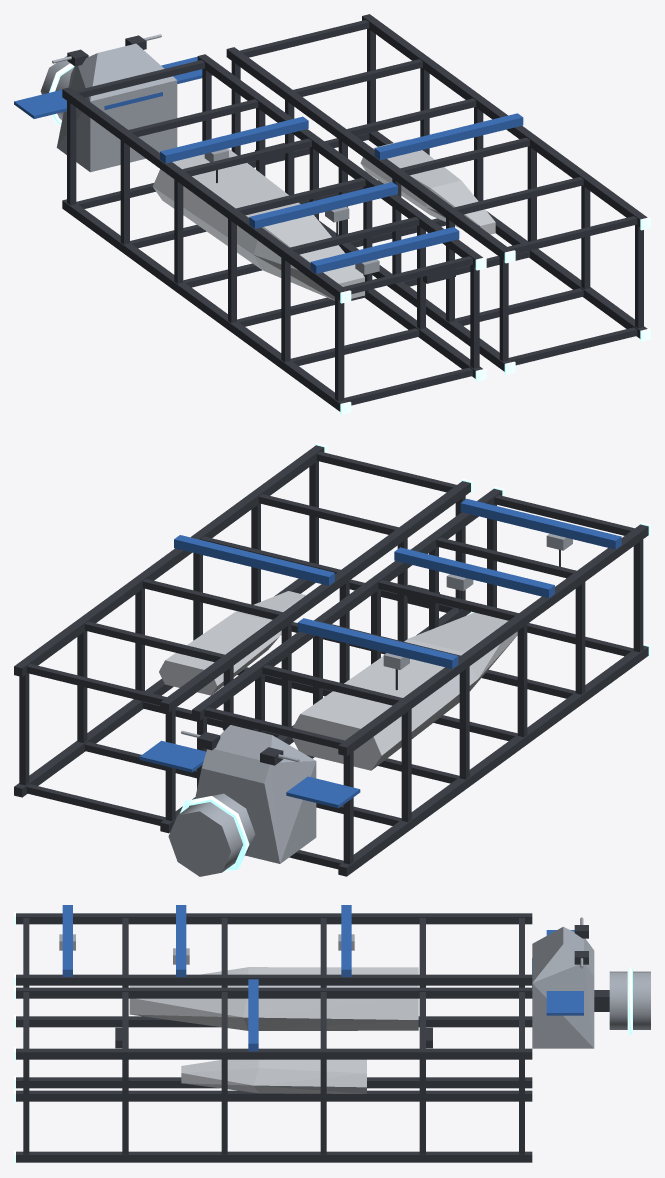
File: Shipyard_L4.glb
The picture shows the model from 3 angles, top to bottom: view 1: azimuth 30°, elevation 25°; view 2: azimuth 150°, elevation 25°; view 3: azimuth 270°, elevation 25°; orthographic projection. The views are drawn at different scales.
Visible parts, largest first — view 1: hull_in_progress, control_block, frame_beam_R1, frame_beam_1, frame_beam_3, frame_beam_R0, frame_beam_0, hull_in_progress_R, frame_beam_R2, gantry_2, gantry_R, gantry_0 (+43 smaller); view 2: hull_in_progress, control_block, frame_beam_R1, frame_beam_1, frame_beam_3, frame_beam_R0, fusion_reactor, frame_beam_0, hull_in_progress_R, frame_beam_R2, gantry_2, gantry_0 (+41 smaller); view 3: hull_in_progress, frame_beam_R0, control_block, frame_beam_0, frame_beam_R2, frame_beam_R1, frame_beam_1, hull_in_progress_R, frame_beam_R3, frame_beam_2, frame_beam_3, fusion_reactor (+22 smaller).
Boxes of the visible parts, x1,y1,x2,y2 form: hull_in_progress: [152, 148, 364, 300]; control_block: [56, 43, 177, 172]; frame_beam_R1: [226, 47, 511, 260]; frame_beam_1: [62, 87, 347, 300]; frame_beam_3: [62, 199, 347, 411]; frame_beam_R0: [362, 14, 647, 227]; frame_beam_0: [197, 54, 482, 267]; hull_in_progress_R: [360, 139, 495, 234]; frame_beam_R2: [369, 131, 647, 338]; gantry_2: [310, 227, 459, 273]; gantry_R: [374, 113, 523, 160]; gantry_0: [160, 116, 308, 163]; hull_in_progress: [292, 612, 517, 770]; control_block: [195, 725, 316, 863]; frame_beam_R1: [160, 481, 470, 712]; frame_beam_1: [338, 524, 648, 756]; frame_beam_3: [338, 645, 648, 876]; frame_beam_R0: [14, 445, 324, 676]; fusion_reactor: [168, 793, 255, 876]; frame_beam_0: [192, 488, 502, 720]; hull_in_progress_R: [159, 591, 305, 695]; frame_beam_R2: [14, 578, 315, 797]; gantry_2: [460, 499, 621, 549]; gantry_0: [297, 618, 458, 668]; hull_in_progress: [129, 967, 418, 1030]; frame_beam_R0: [16, 1048, 532, 1059]; control_block: [532, 926, 594, 1048]; frame_beam_0: [16, 974, 532, 985]; frame_beam_R2: [16, 1151, 532, 1162]; frame_beam_R1: [16, 987, 532, 998]; frame_beam_1: [16, 913, 532, 924]; hull_in_progress_R: [181, 1059, 366, 1093]; frame_beam_R3: [16, 1090, 532, 1101]; frame_beam_2: [16, 1077, 532, 1088]; frame_beam_3: [16, 1016, 532, 1027]; fusion_reactor: [609, 971, 650, 1029].
Bounding box in the file's own units: 493 × 188 × 895.
